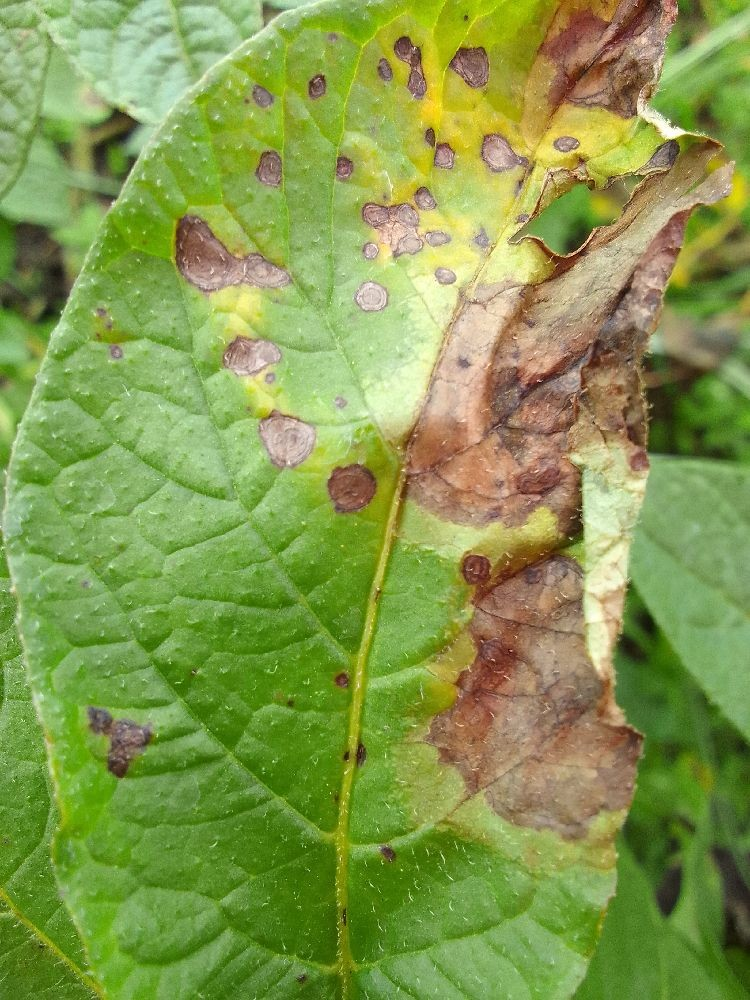late_blight: (309, 0, 749, 880), (163, 202, 292, 309), (0, 208, 85, 337), (692, 829, 750, 965)
